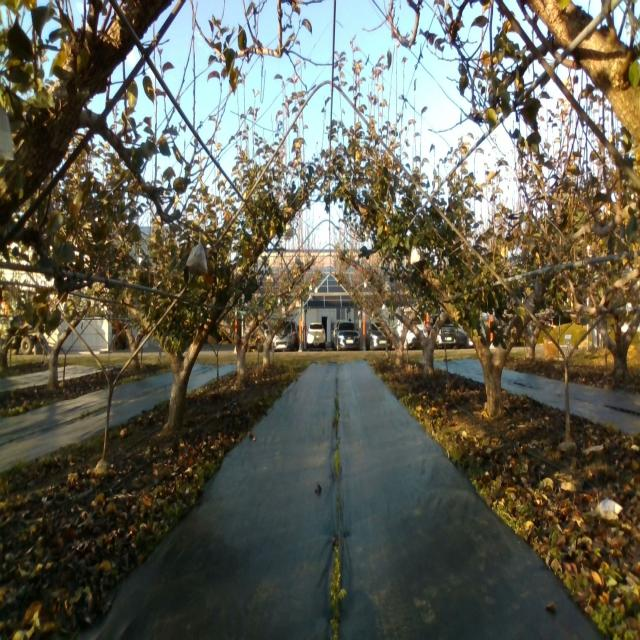pearbags: (186, 240, 208, 275), (410, 245, 422, 265)
